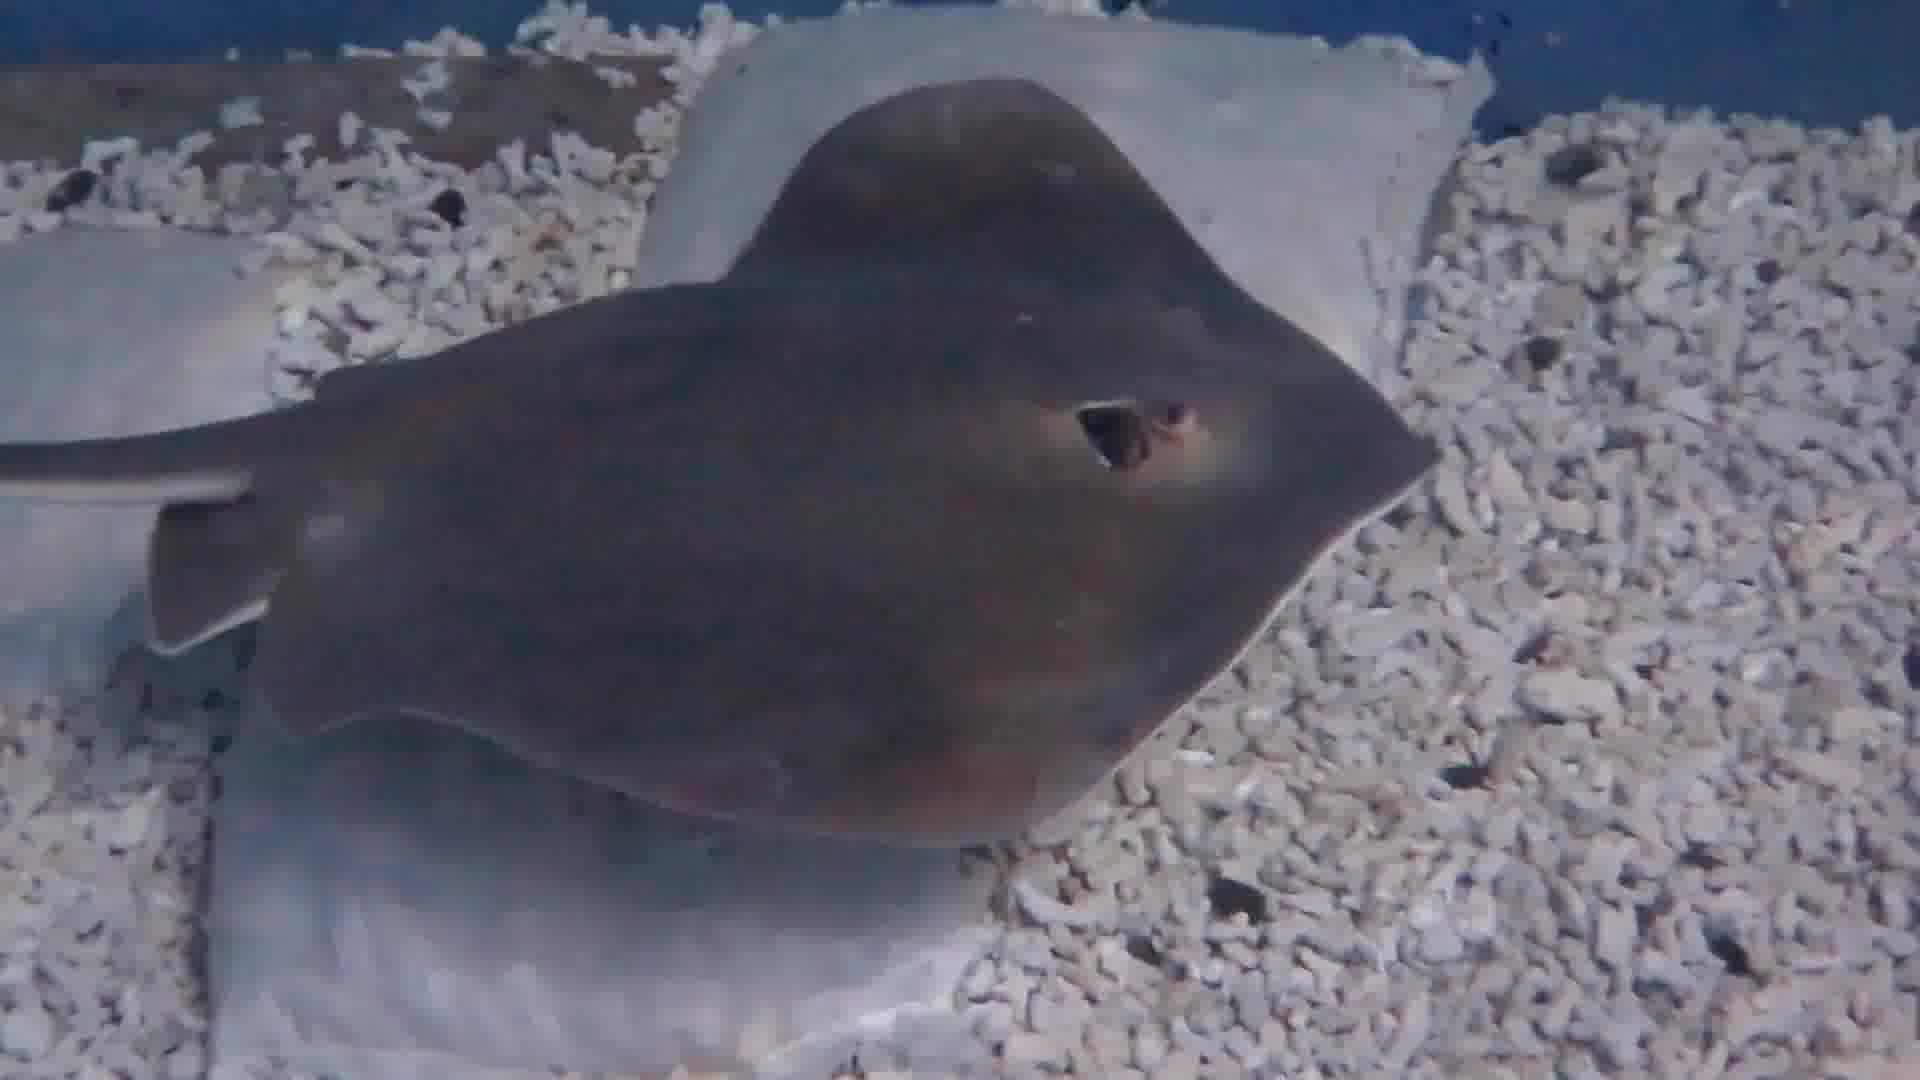Dasyatis bennetti: (169, 51, 1453, 898)
